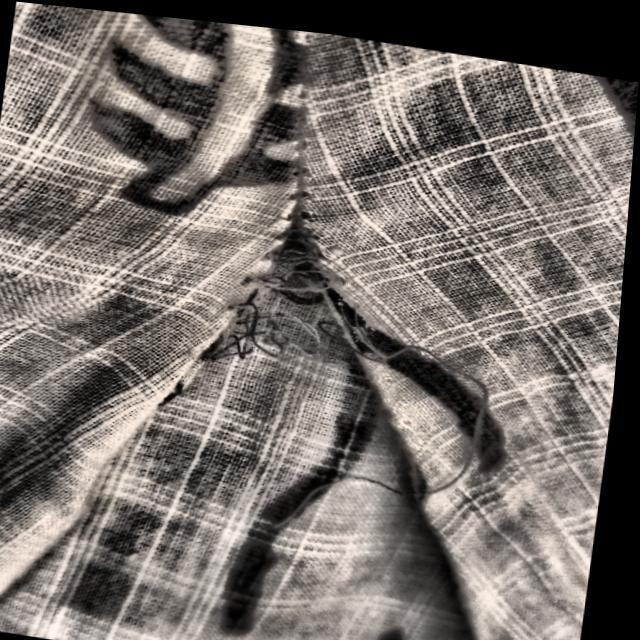Stitch: (120, 141, 534, 564)
